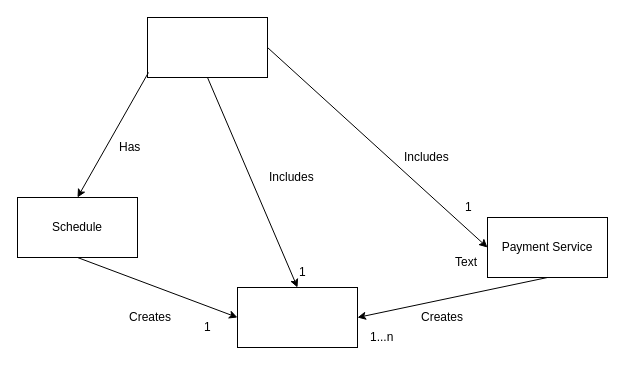
Some shapes in this 625 by 365 pixel diagram are drawn without their labels. Each missing label, with the centre of its shape:
"Notification" goes at pixel 297 317.
"Service" goes at pixel 207 47.
